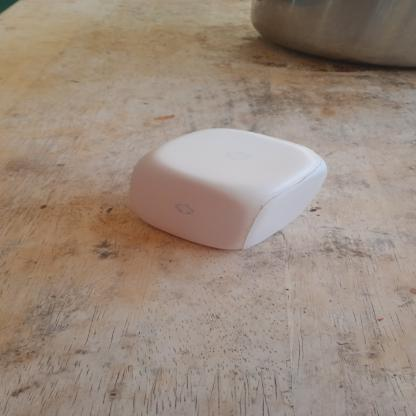Cube: (122, 123, 341, 252)
